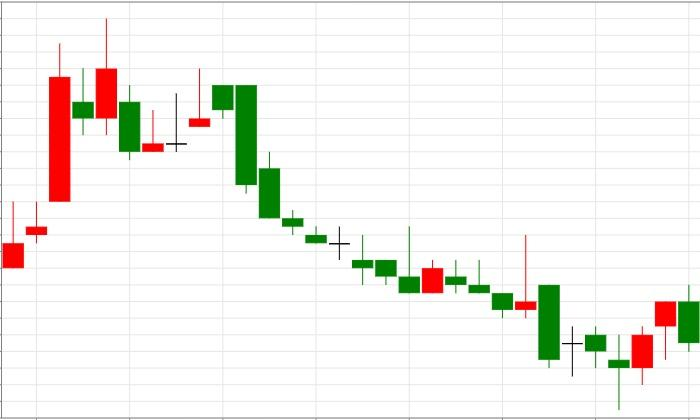inverse_hammer_rise: (211, 84, 421, 294)
